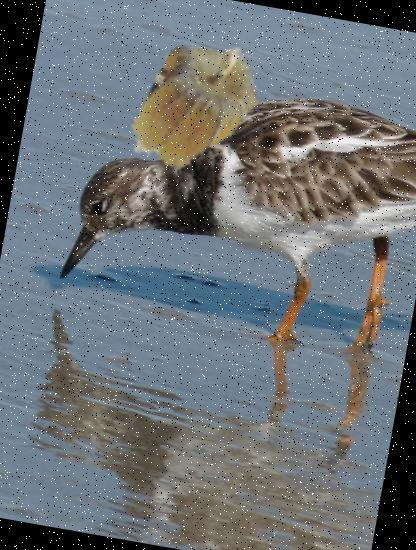Physalis: (116, 22, 283, 190)
